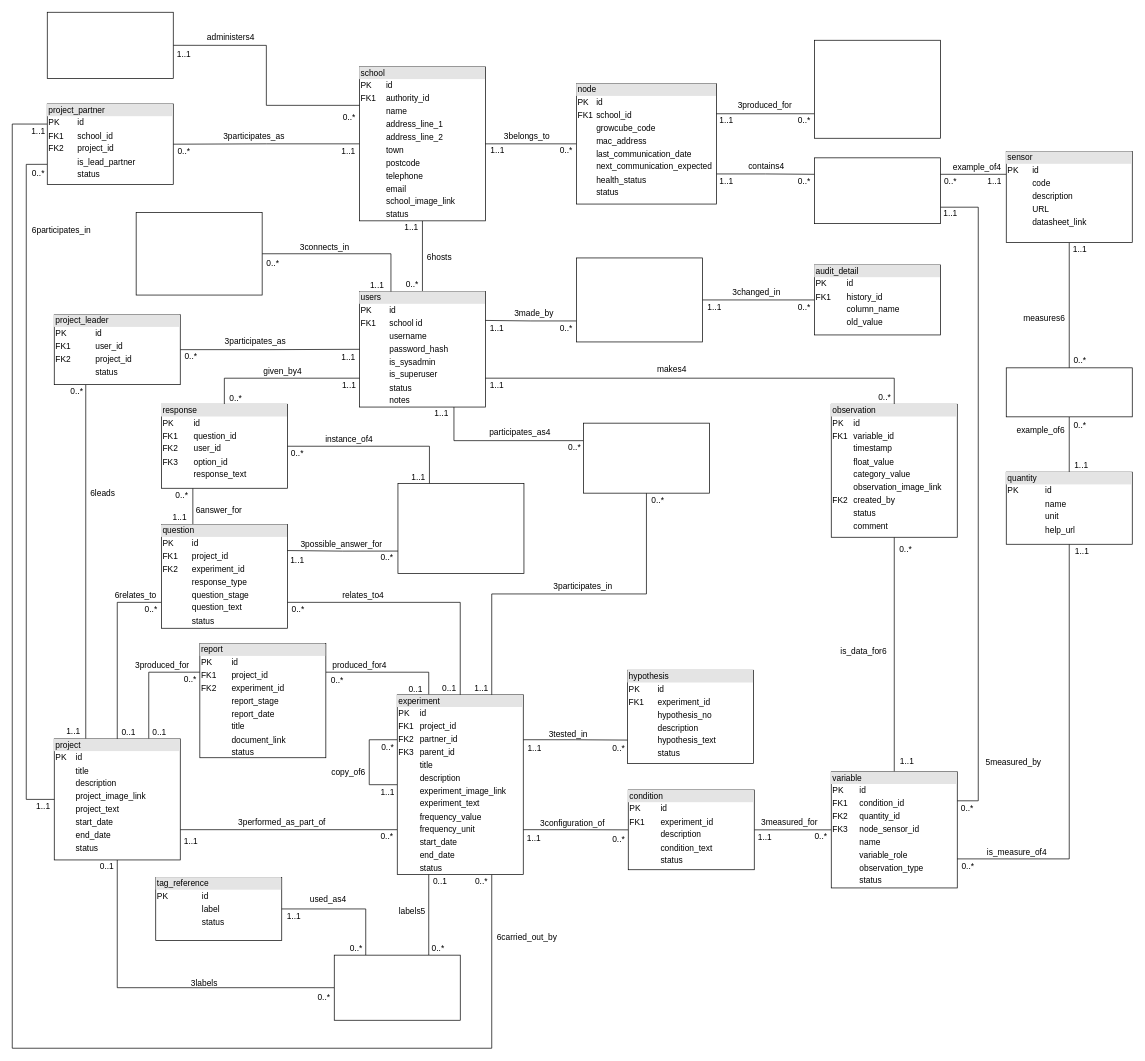
Some shapes in this 1145 by 1061 pixel diagram are drawn without their labels. The centre of each missing label's shape, as x and y in pixels:
"audit PK id FK1 user_id audit_date table_name primary_key_value" goes at (x=639, y=299).
"authority PK id name telephone email" goes at (x=110, y=45).
"experiment_participant PK id FK1 user_id FK2 experiment_id status" goes at (x=646, y=457).
"node_alert PK id FK1 node_id description created_date updated_date status" goes at (x=877, y=89).
"node_sensor PK id FK1 node_id FK2 sensor_id status" goes at (x=877, y=190).
"option PK id FK1 question_id value label description status" goes at (x=460, y=528).
"sensor_quantity FK1 sensor_id FK2 quantity_id" goes at (x=1069, y=392).
"session PK id FK1 user_id login_timestamp logout_timestamp is_timed_out" goes at (x=198, y=253).
"tag PK id FK1 project_id FK2 experiment_id FK3 tag_reference_id" goes at (x=397, y=987).
